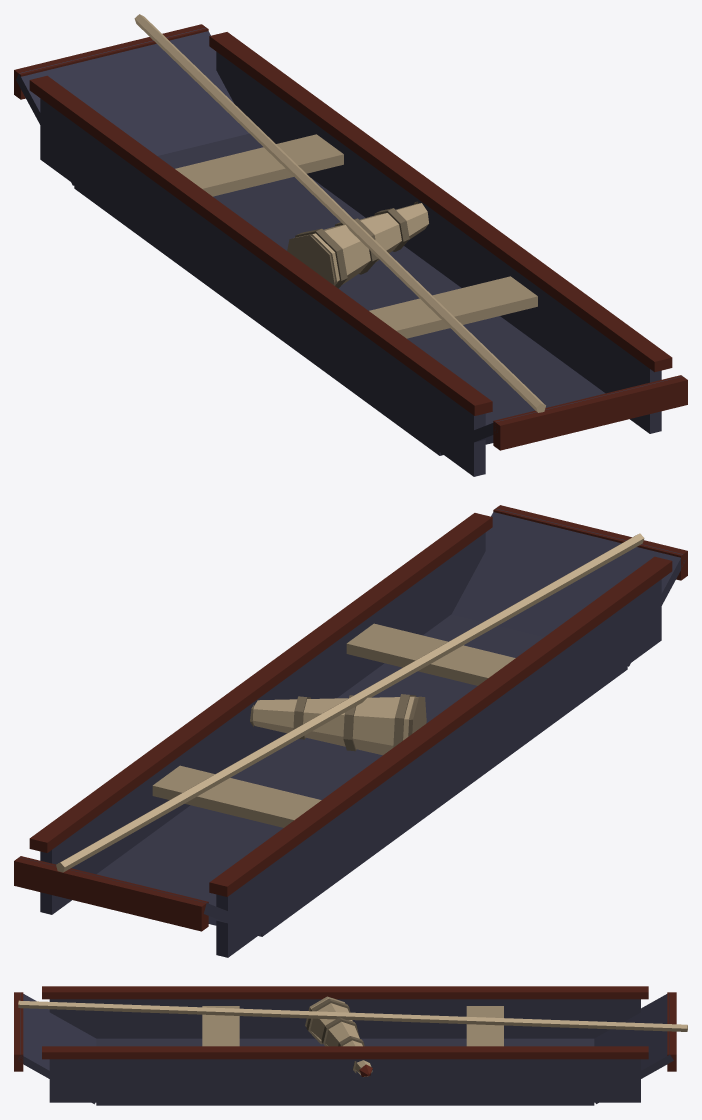
The model's file is punt.glb.
3 views of the same model, one above another, from view 1: azimuth 30°, elevation 25°; view 2: azimuth 150°, elevation 25°; view 3: azimuth 270°, elevation 25° (orthographic). The views are drawn at different scales.
Parts seen in each view (by area): view 1: ink_l12, coal_d55, driftwood_d20, driftwood_d5, driftwood_d12, driftwood_d45, driftwood_d32; view 2: ink_l12, coal_d55, driftwood_d20, driftwood_d5, driftwood_d12, driftwood_d45; view 3: ink_l12, coal_d55, driftwood_d5, driftwood_d20, driftwood_d12, driftwood_d45.
Part boxes in pixels (left/top/right/bottom): ink_l12: left=16, top=27, right=682, bottom=476; coal_d55: left=14, top=24, right=687, bottom=450; driftwood_d20: left=175, top=134, right=537, bottom=338; driftwood_d5: left=134, top=14, right=545, bottom=412; driftwood_d12: left=293, top=203, right=428, bottom=285; driftwood_d45: left=295, top=201, right=418, bottom=288; driftwood_d32: left=287, top=235, right=335, bottom=284; ink_l12: left=19, top=508, right=685, bottom=957; coal_d55: left=14, top=505, right=687, bottom=931; driftwood_d20: left=152, top=623, right=515, bottom=827; driftwood_d5: left=56, top=533, right=644, bottom=872; driftwood_d12: left=252, top=696, right=417, bottom=755; driftwood_d45: left=250, top=694, right=416, bottom=751; ink_l12: left=18, top=992, right=673, bottom=1105; coal_d55: left=14, top=986, right=676, bottom=1071; driftwood_d5: left=18, top=1000, right=687, bottom=1031; driftwood_d20: left=202, top=1006, right=503, bottom=1046; driftwood_d12: left=306, top=998, right=372, bottom=1076; driftwood_d45: left=306, top=998, right=364, bottom=1073.
Size of the model in its own units: 1.09 by 0.445 by 4.33.
